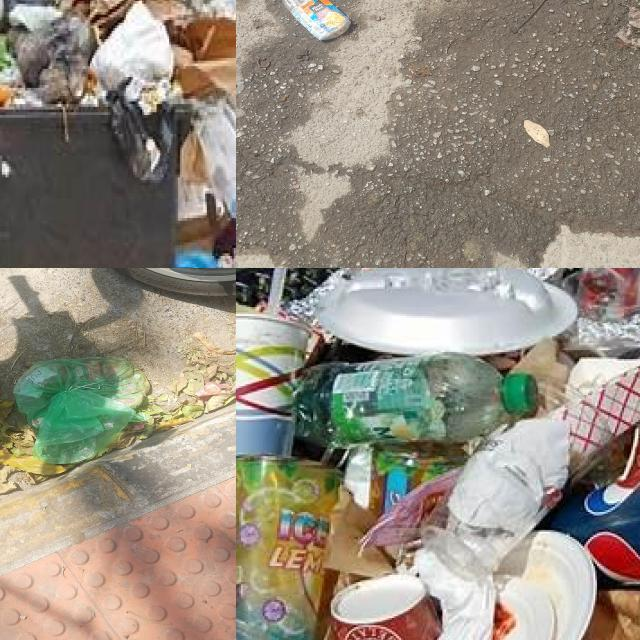Background: (236, 0, 640, 268), (0, 268, 236, 496)
Disposable: (319, 268, 577, 355), (236, 457, 340, 640), (496, 530, 596, 640), (578, 268, 640, 319), (577, 311, 640, 346), (529, 268, 579, 294)
Garbage: (236, 268, 640, 640), (91, 2, 174, 90)
Plastic_Bag: (13, 357, 150, 463)
Plastic_bottle: (295, 354, 538, 445), (282, 0, 350, 40)
Plastic_wraper: (360, 470, 462, 554)
